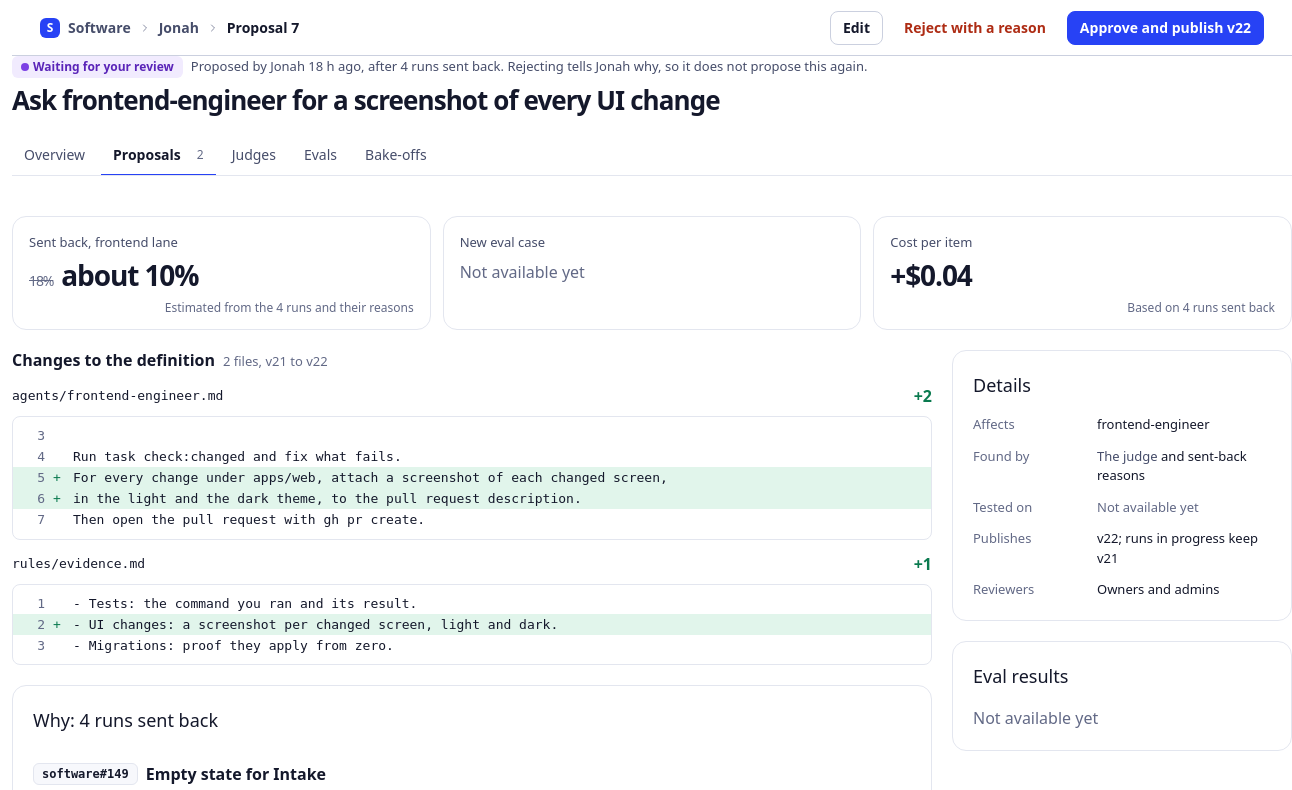
Test: the decisions › Approve shows the draft-open message in plain words and publishes the proposal
Click the button "Approve and publish v22".
click(1165, 28)  # box [1067, 10, 1264, 44]
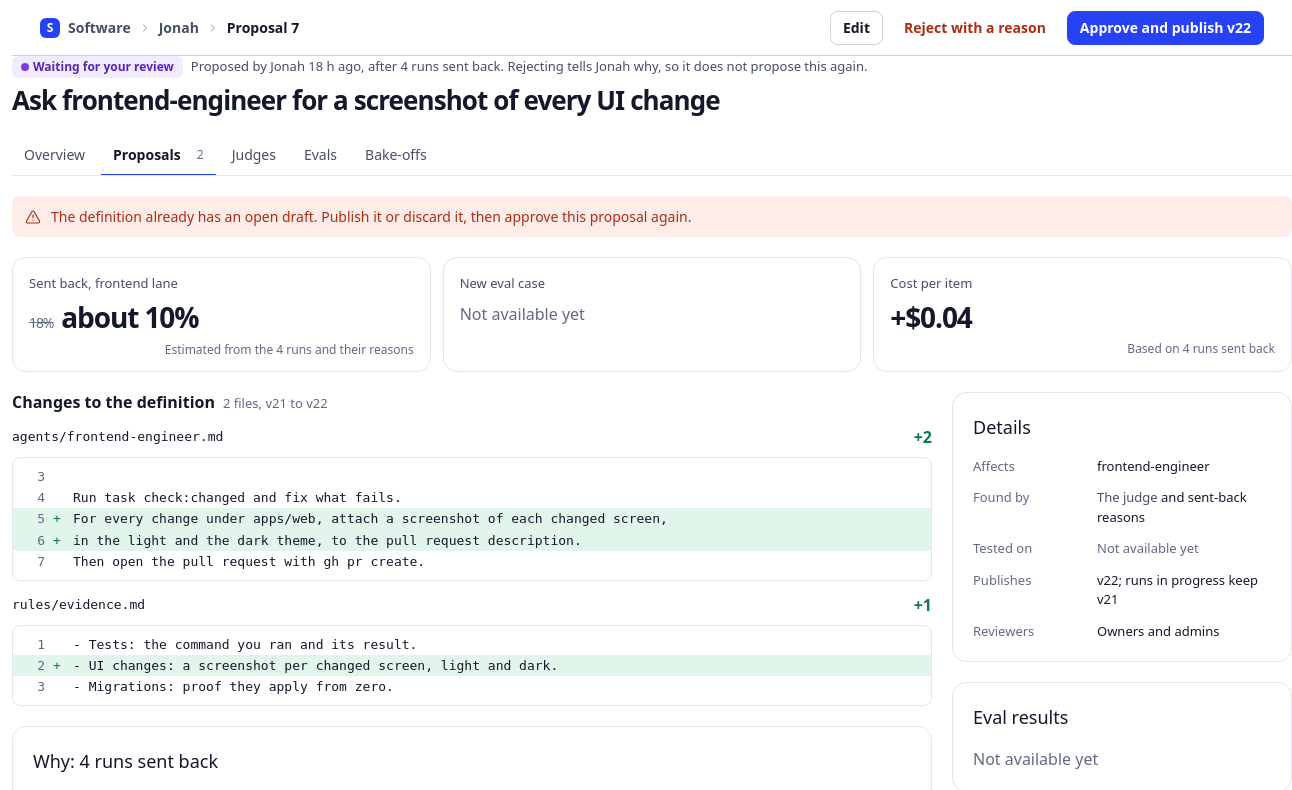
Result: the text "The definition already has an open draft" is shown at [51, 207, 692, 226]
